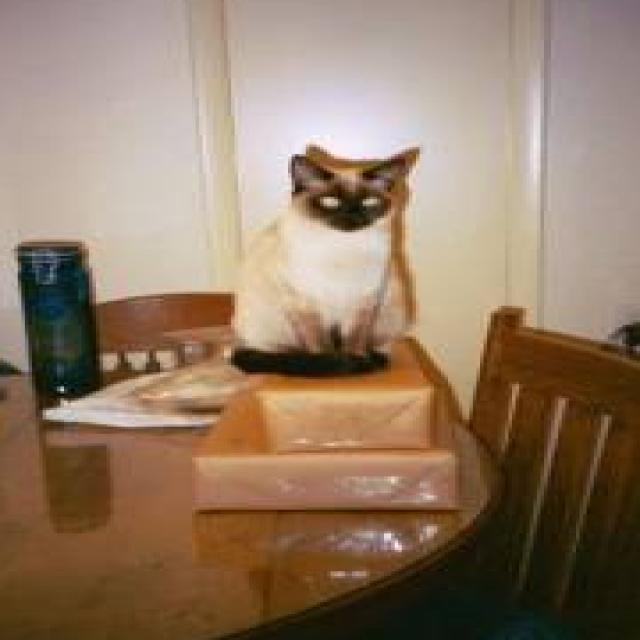Siamese: (221, 146, 421, 382)
